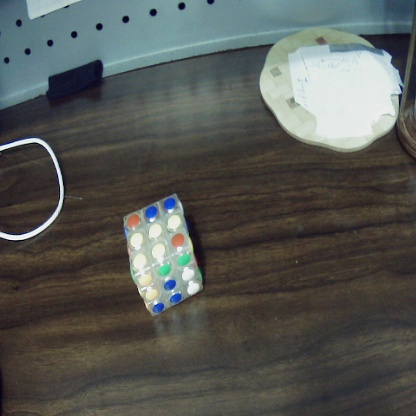Rubix Cube: (123, 193, 207, 315)
